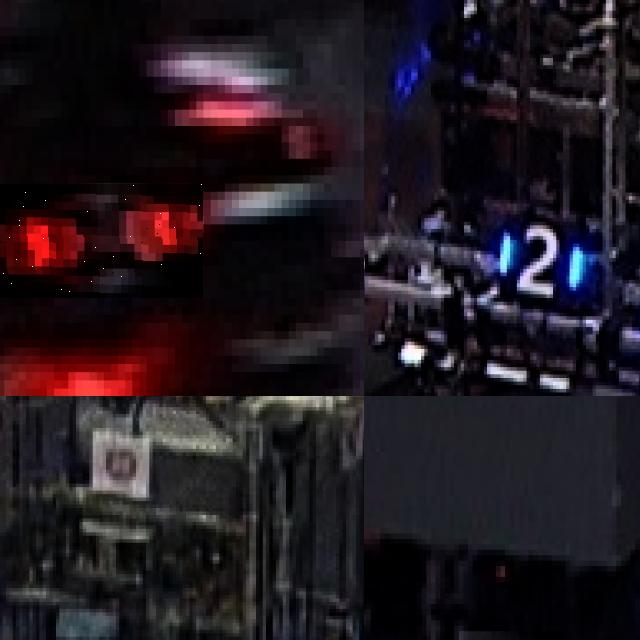B2: (487, 214, 593, 298)
R3: (0, 183, 203, 298)
